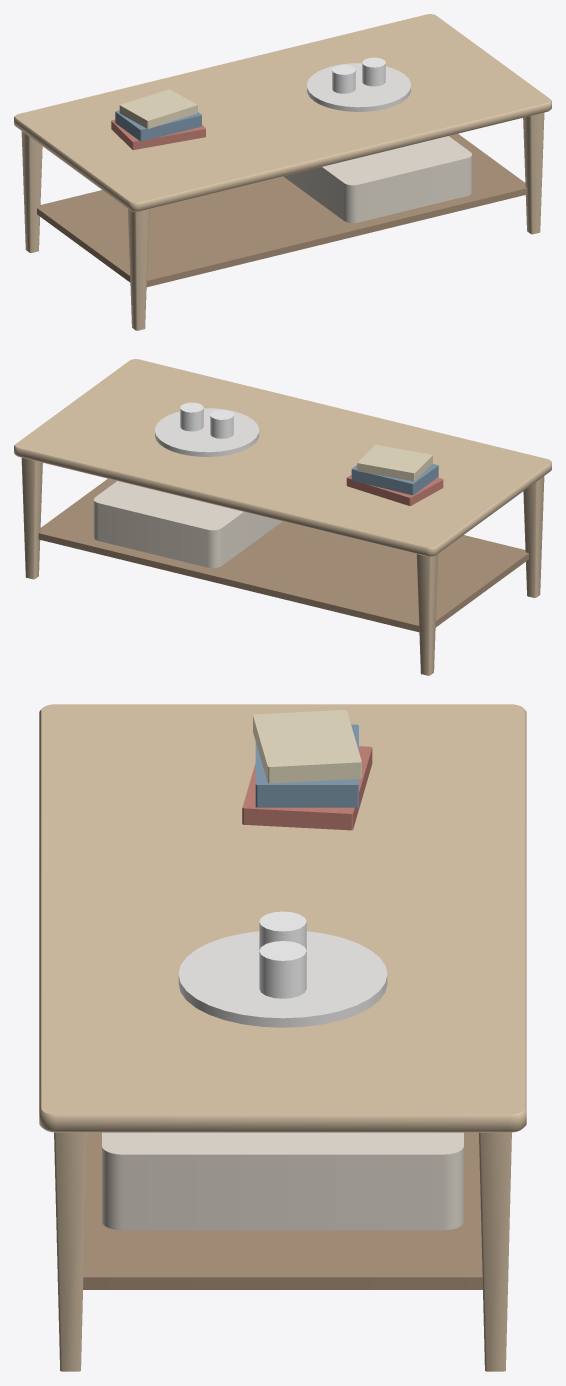
3 renders of one model, top to bottom at view 1: azimuth 30°, elevation 25°; view 2: azimuth 150°, elevation 25°; view 3: azimuth 270°, elevation 25°, orthographic. The views are drawn at different scales.
Visible parts, largest first — view 1: Bàn trà Dài=1400; Rộng=700; view 2: Bàn trà Dài=1400; Rộng=700; view 3: Bàn trà Dài=1400; Rộng=700.
Part boxes in pixels (x1=…): Bàn trà Dài=1400; Rộng=700: x1=14, y1=14, x2=551, y2=330; Bàn trà Dài=1400; Rộng=700: x1=14, y1=359, x2=551, y2=675; Bàn trà Dài=1400; Rộng=700: x1=39, y1=704, x2=526, y2=1371.
Bounding box in the file's own units: 1.4 × 0.508 × 0.7.
